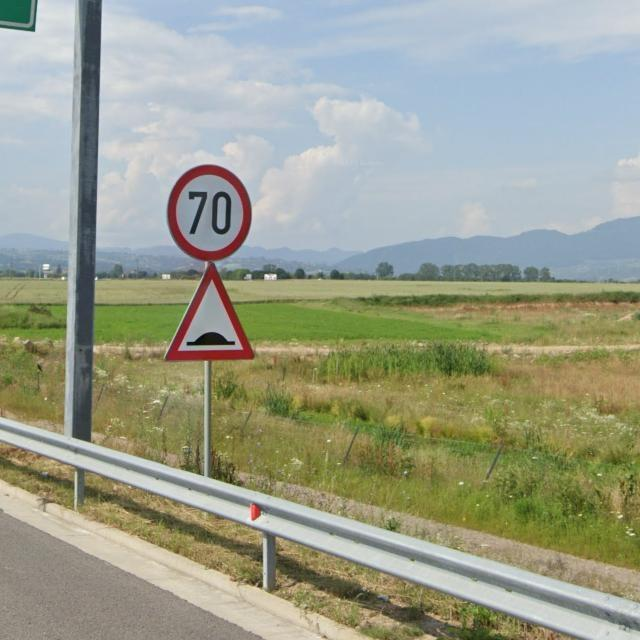forb_speed_over_70: (167, 162, 255, 261)
